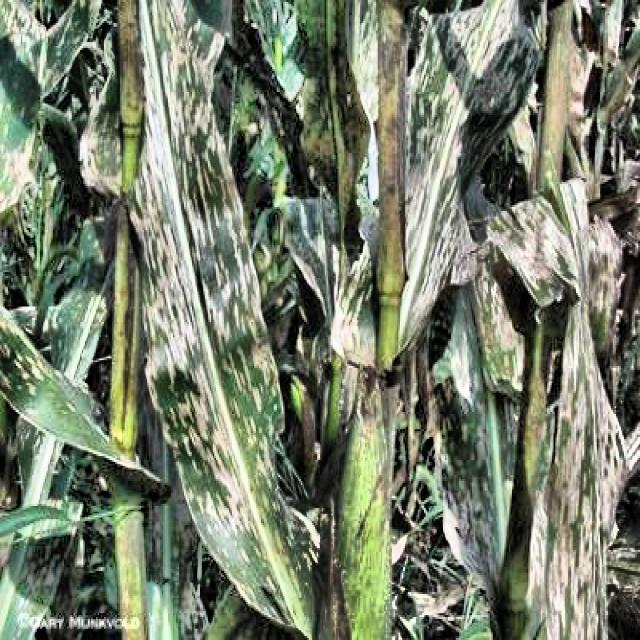blight: (140, 9, 298, 619)
